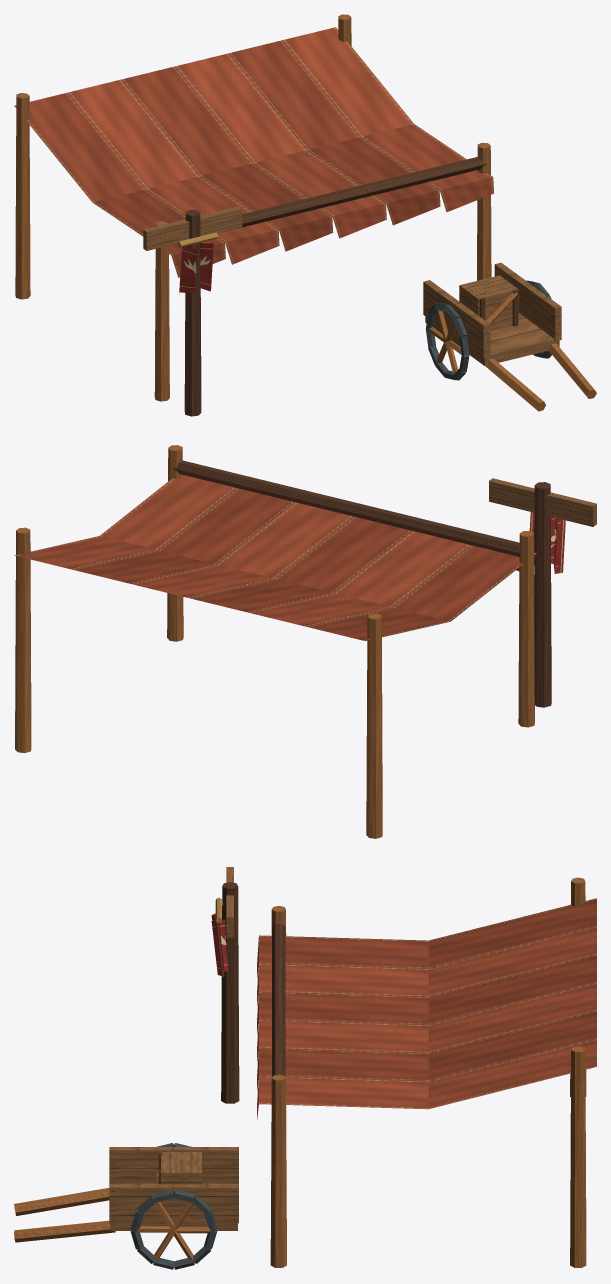
The model's file is transport.glb.
The picture shows the model from 3 angles, top to bottom: view 1: azimuth 30°, elevation 25°; view 2: azimuth 150°, elevation 25°; view 3: azimuth 270°, elevation 25°; orthographic projection. The views are drawn at different scales.
Parts seen in each view (by area): view 1: transport_F4; view 2: transport_F4; view 3: transport_F4.
Boxes of the visible parts, box(x1,y1,x2,y2) form: transport_F4: box(14, 14, 596, 416); transport_F4: box(14, 445, 596, 838); transport_F4: box(14, 867, 596, 1269).
Bounding box in the file's own units: 7.35 × 3.85 × 9.35.
Materials: 1 (1 with a texture image).
